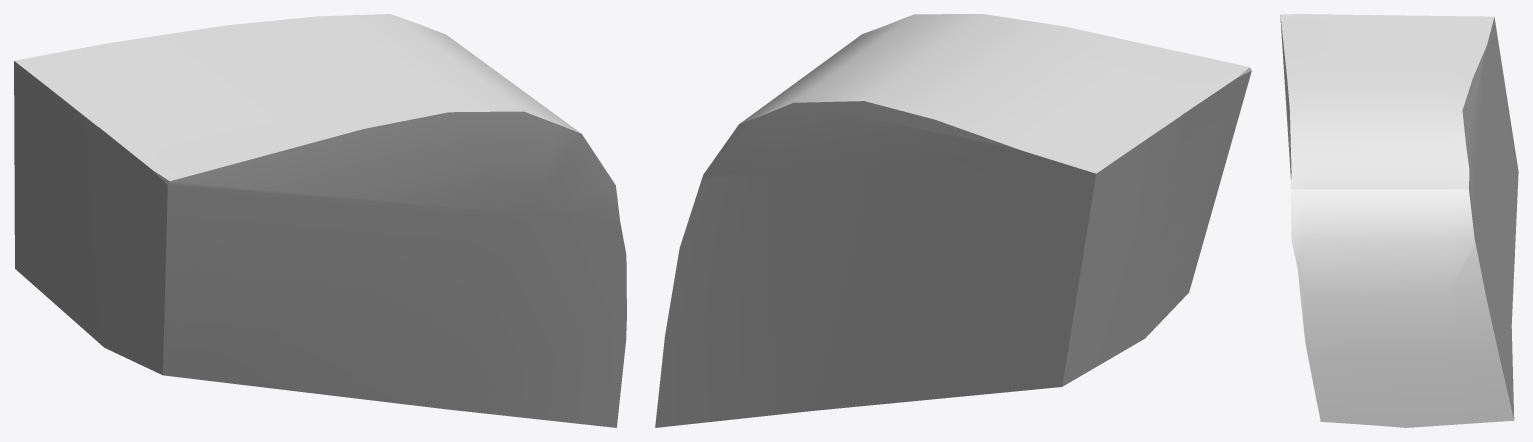
Rendered from Happy_Box6.fbx.
3 renders of one model, left to right at view 1: azimuth 30°, elevation 25°; view 2: azimuth 150°, elevation 25°; view 3: azimuth 270°, elevation 25°, orthographic. The views are drawn at different scales.
Parts seen in each view (by area): view 1: Happy_Box6; view 2: Happy_Box6; view 3: Happy_Box6.
Boxes of the visible parts, x1,y1,x2,y2 form: Happy_Box6: [14, 14, 626, 427]; Happy_Box6: [655, 14, 1251, 427]; Happy_Box6: [1280, 14, 1518, 427].
Bounding box in the file's own units: 21.88 × 17.21 × 14.29.
Materials: 2 (1 with a texture image).
